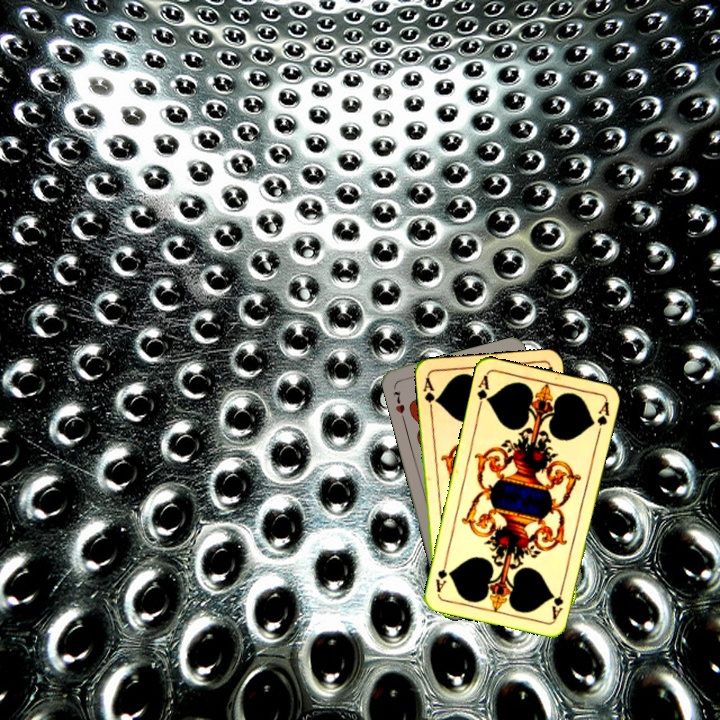GA: (419, 373, 440, 413), (473, 371, 492, 412), (548, 582, 566, 622)
H7: (389, 387, 407, 416)
